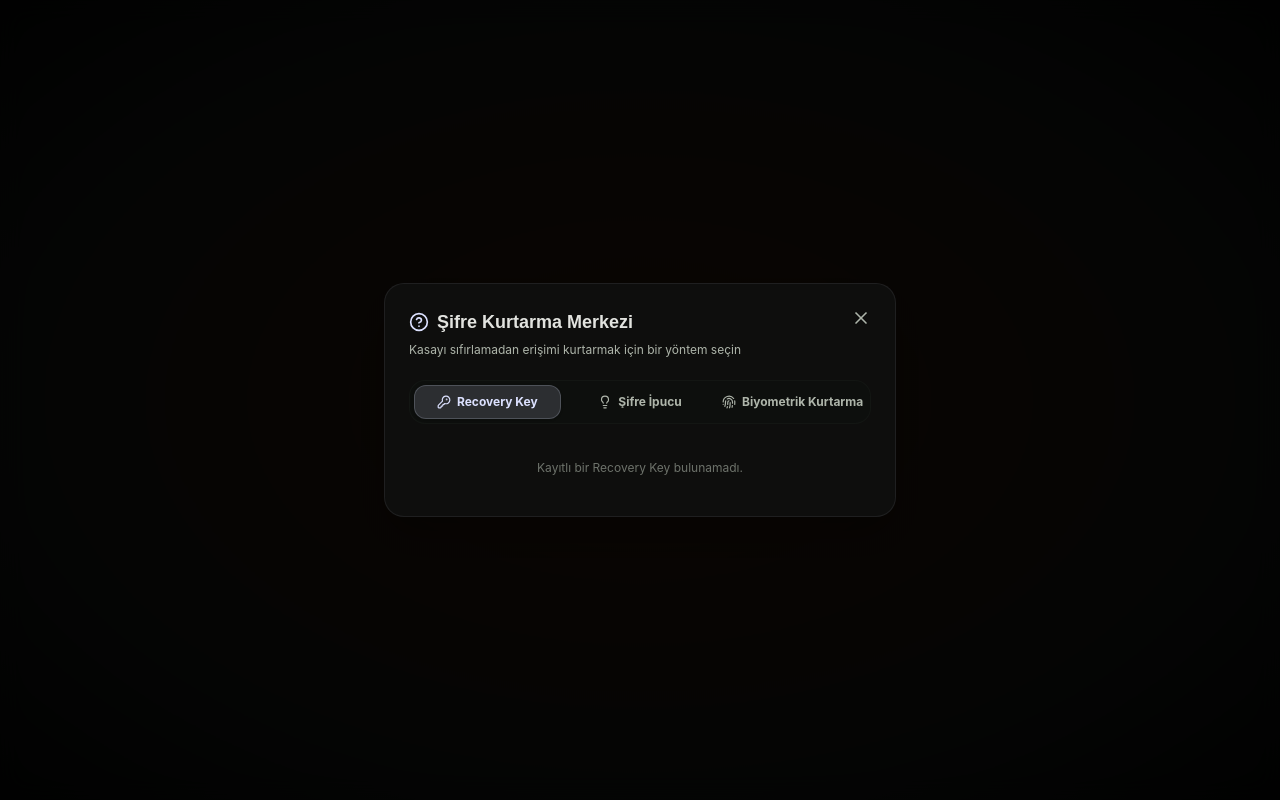
Test: LockScreenRecoveryModal › shows the empty-hint fallback when no hint is stored
Click the button with test id "lock-recovery-tab-hint": (640, 402) [567,385,713,419]
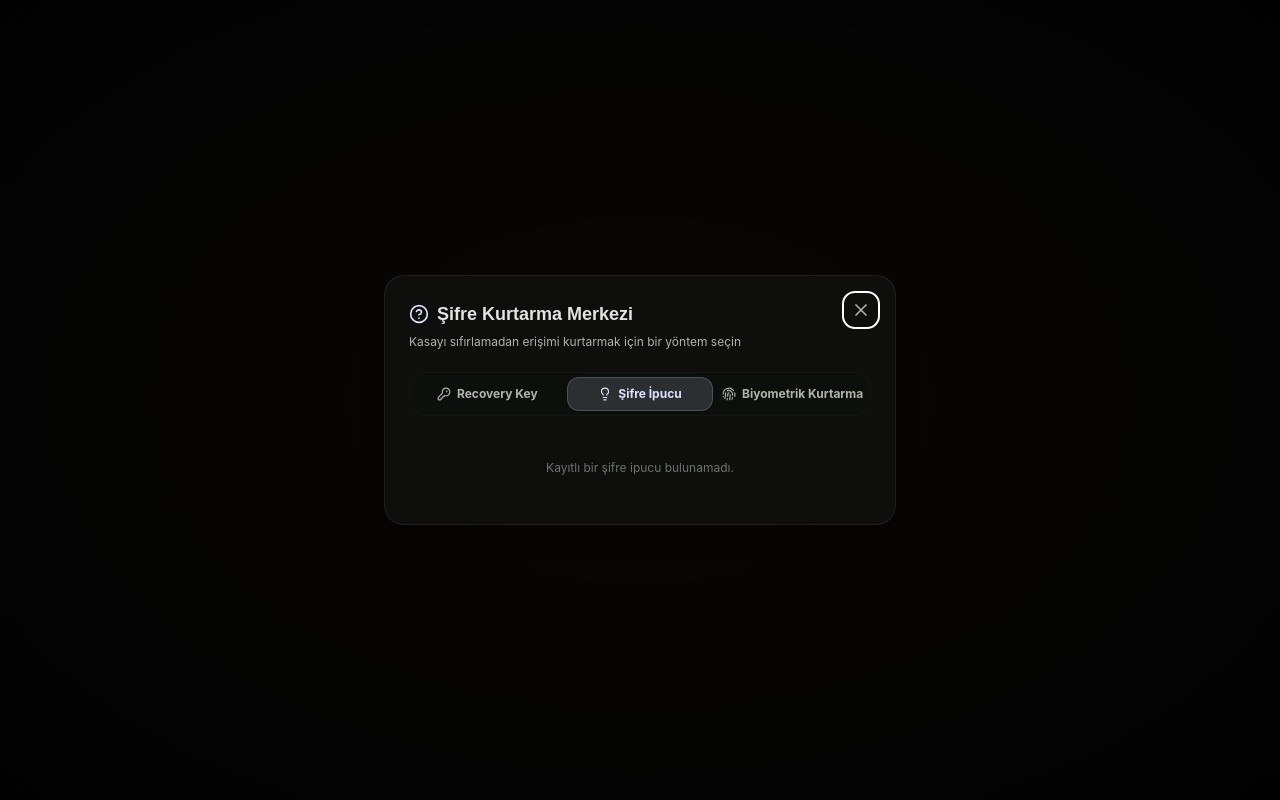
Expected: the text "Kayıtlı bir şifre ipucu bulunamadı." is shown, [546,460,734,475]
